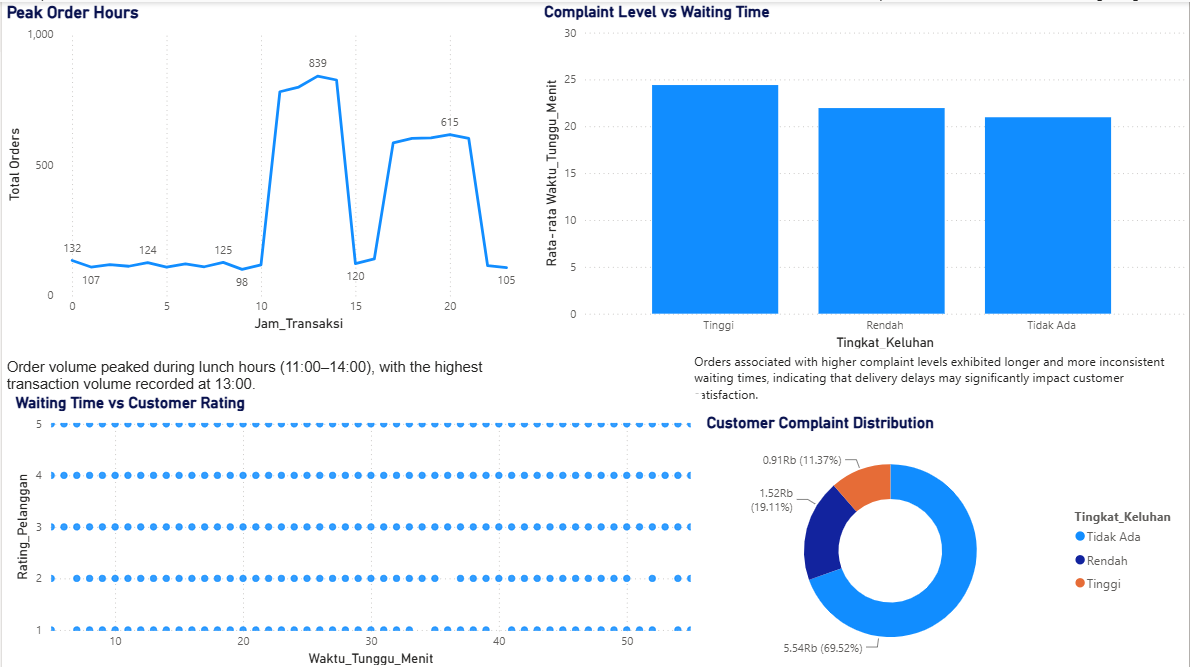

Layout of this report page (visuals, bound fields, positions):
{"tool":"powerbi","page":{"name":"Operational Analysis","canvas":[1280,720],"ordinal":0},"visuals":[{"type":"lineChart","title":"Peak Order Hours","fields":{"Category":["Sheet1.Jam_Transaksi"],"Y":["CountNonNull(Sheet1.ID_Pesanan)"]},"box":[0,0,579.5,359.8],"z":0},{"type":"textbox","box":[0,380.1,569.5,57.6],"z":1000},{"type":"columnChart","title":"Complaint Level vs Waiting Time","fields":{"Category":["Sheet1.Tingkat_Keluhan"],"Y":["Avg(Sheet1.Waktu_Tunggu_Menit)"]},"box":[579.5,0,700.8,380],"z":2000},{"type":"textbox","box":[741.2,373.3,539.1,70.1],"z":3000},{"type":"scatterChart","title":"Waiting Time vs Customer Rating","fields":{"Y":["Sheet1.Rating_Pelanggan"],"X":["Sheet1.Waktu_Tunggu_Menit"]},"box":[9.4,421.8,745.3,299.2],"z":4000},{"type":"donutChart","title":"Customer Complaint Distribution","fields":{"Category":["Sheet1.Tingkat_Keluhan"],"Y":["CountNonNull(Sheet1.ID_Pesanan)"]},"box":[754.7,443.4,525.6,277.6],"z":5000}]}

Visuals, with their boxes in screenshot pixels (x1, y1, x2, y2), scaled from the page's 1280x720 canvas onto the 1190x667 screenshot:
"Peak Order Hours" lineChart: x1=0 y1=0 x2=539 y2=333
textbox: x1=0 y1=352 x2=529 y2=405
"Complaint Level vs Waiting Time" columnChart: x1=539 y1=0 x2=1189 y2=352
textbox: x1=689 y1=346 x2=1189 y2=411
"Waiting Time vs Customer Rating" scatterChart: x1=9 y1=391 x2=702 y2=666
"Customer Complaint Distribution" donutChart: x1=702 y1=411 x2=1189 y2=666
